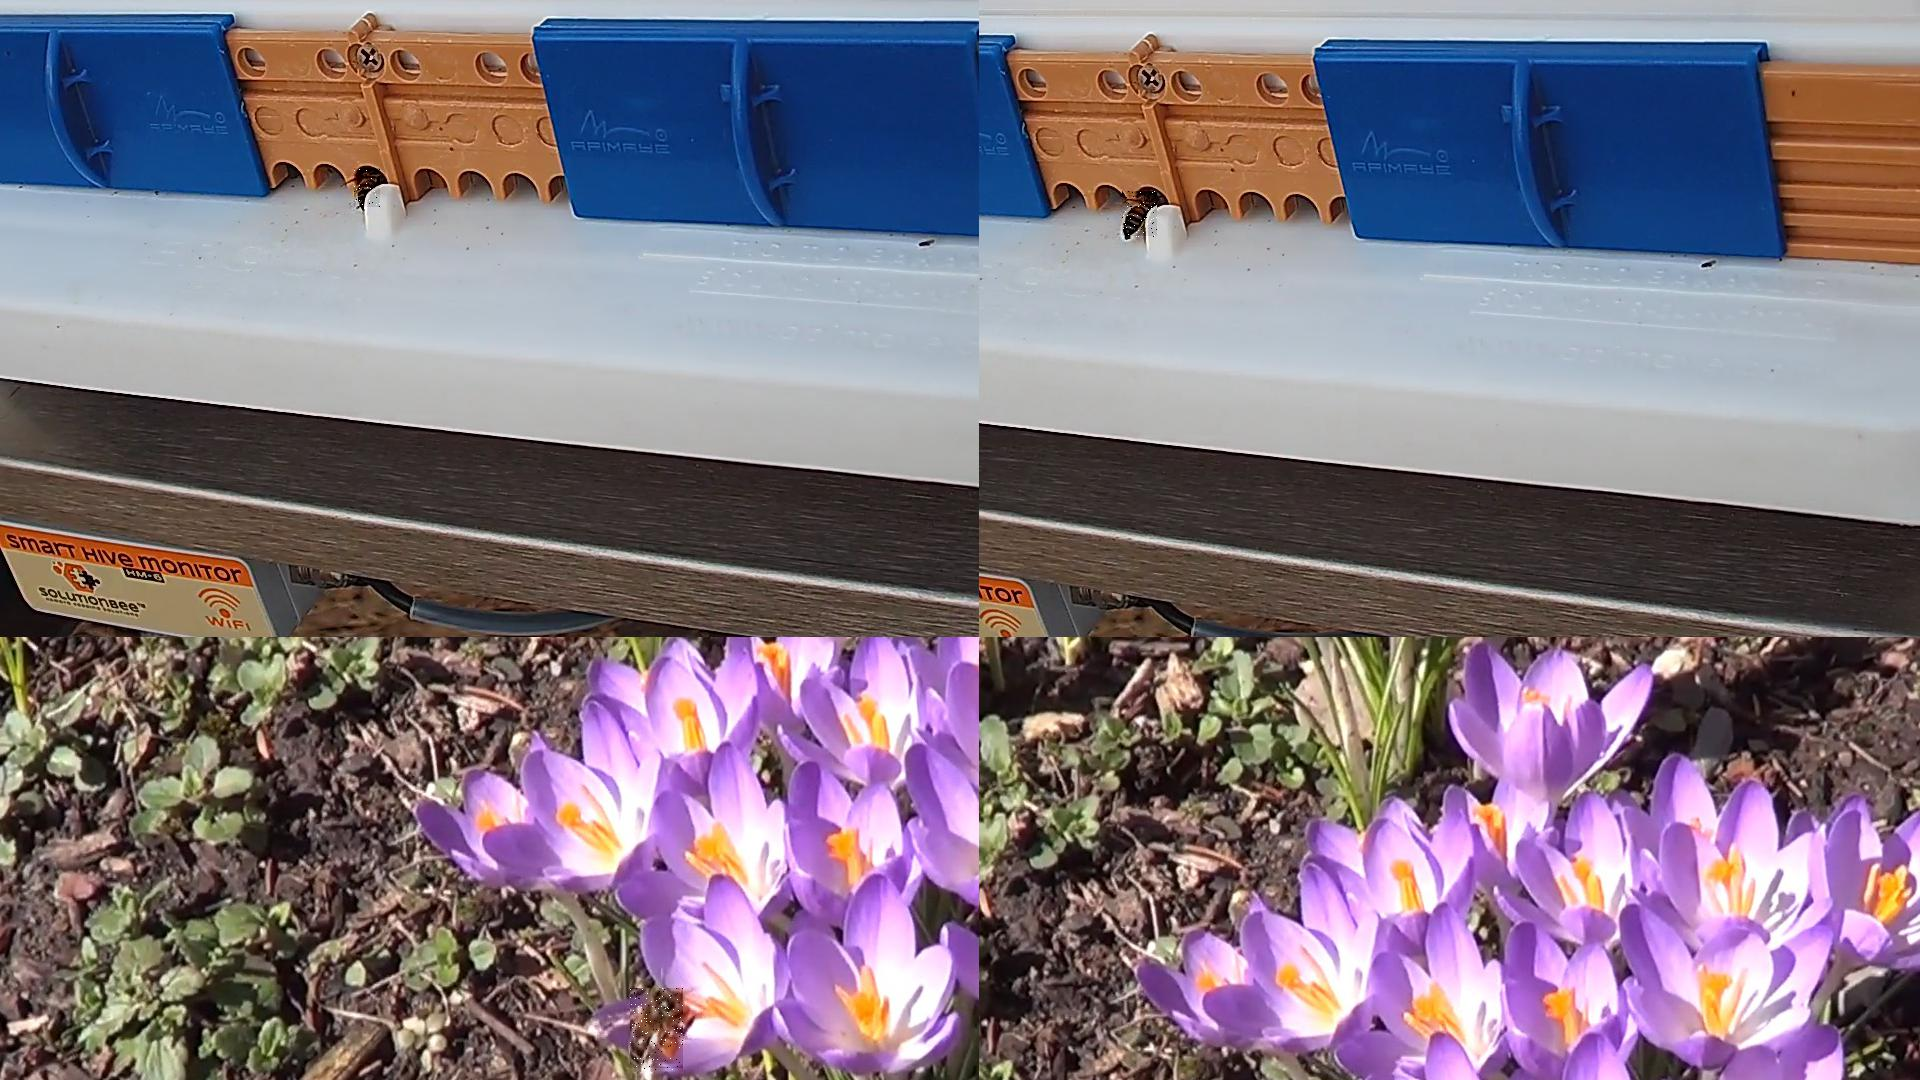bee: (1122, 193, 1158, 240), (355, 169, 381, 208)
pollenbee: (630, 989, 684, 1072)
